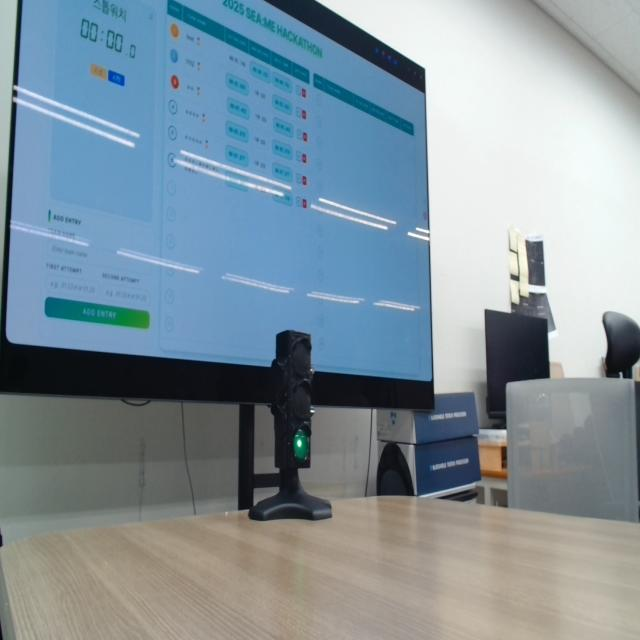green_light: (294, 430, 309, 461)
